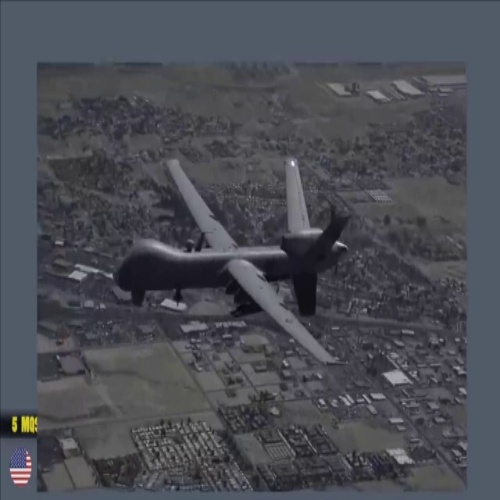uav: (105, 150, 355, 367)
